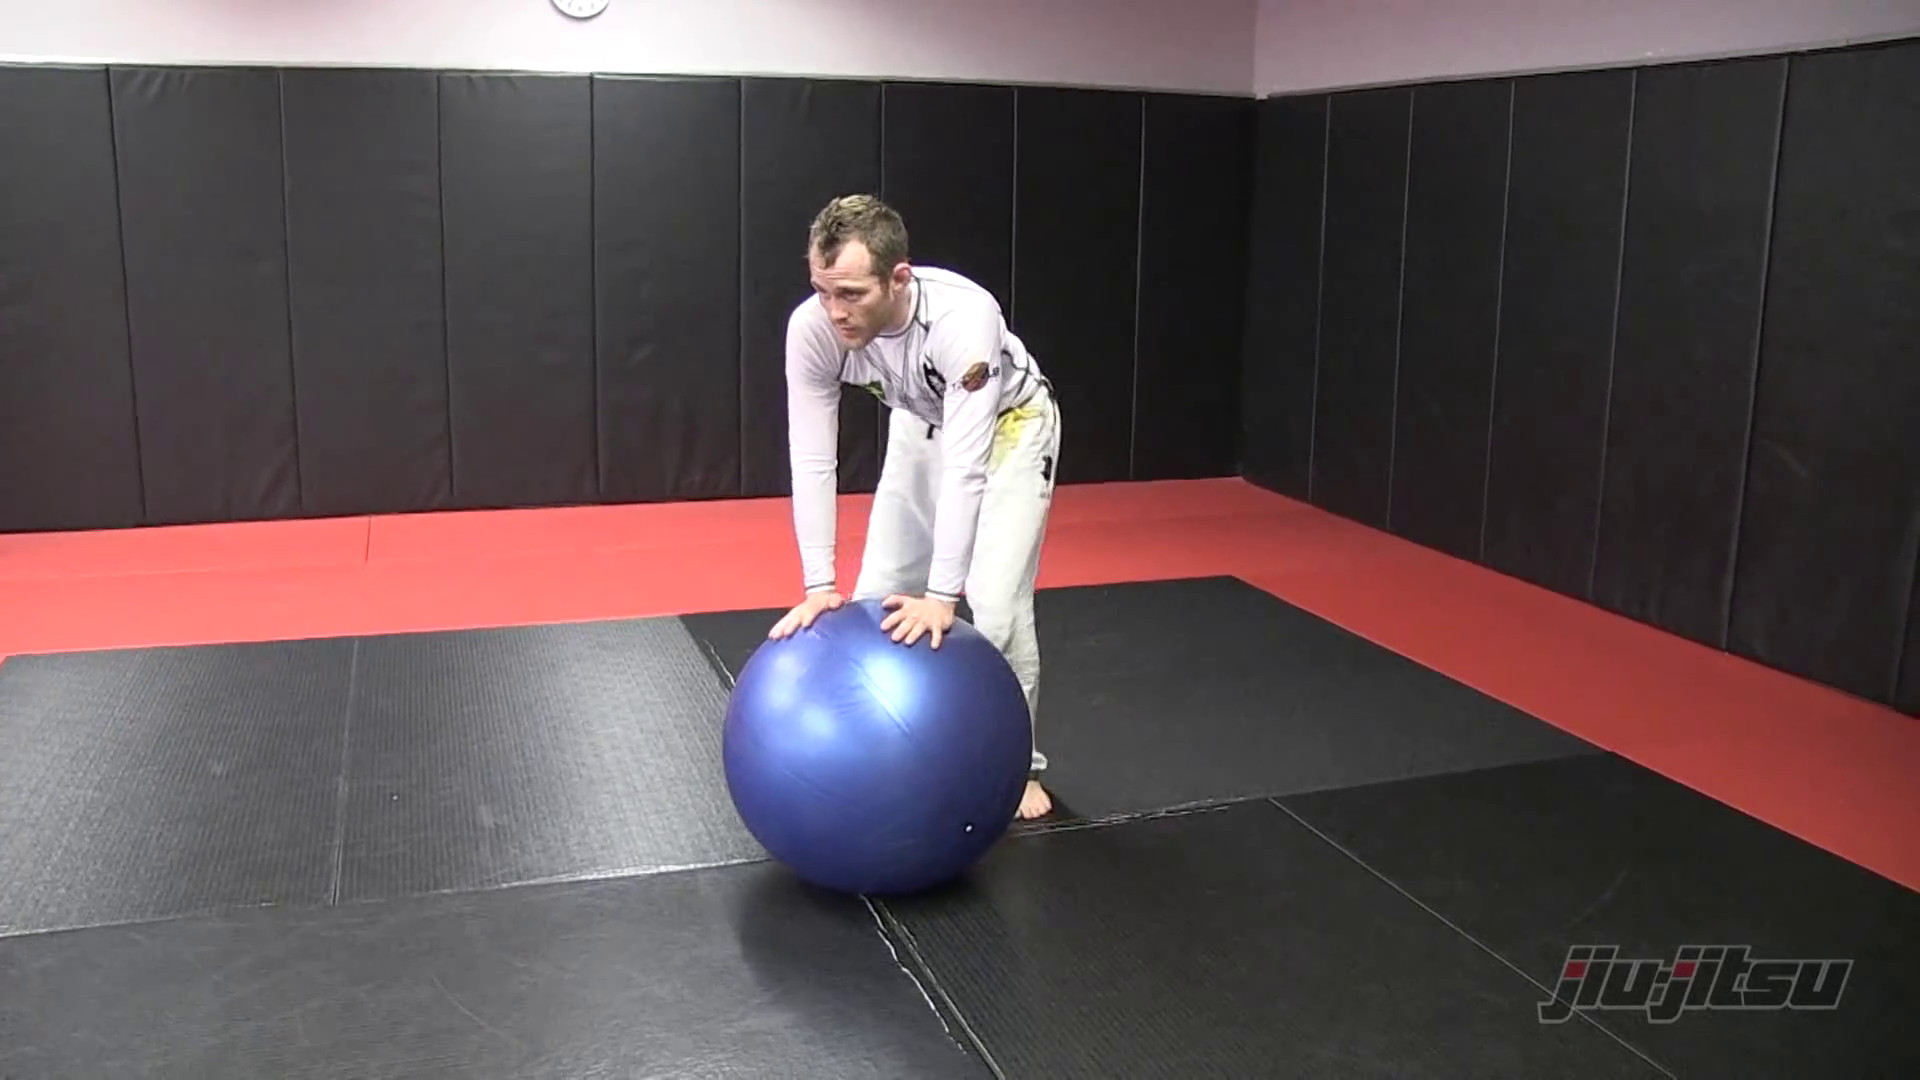yogaball: (708, 589, 1040, 903)
